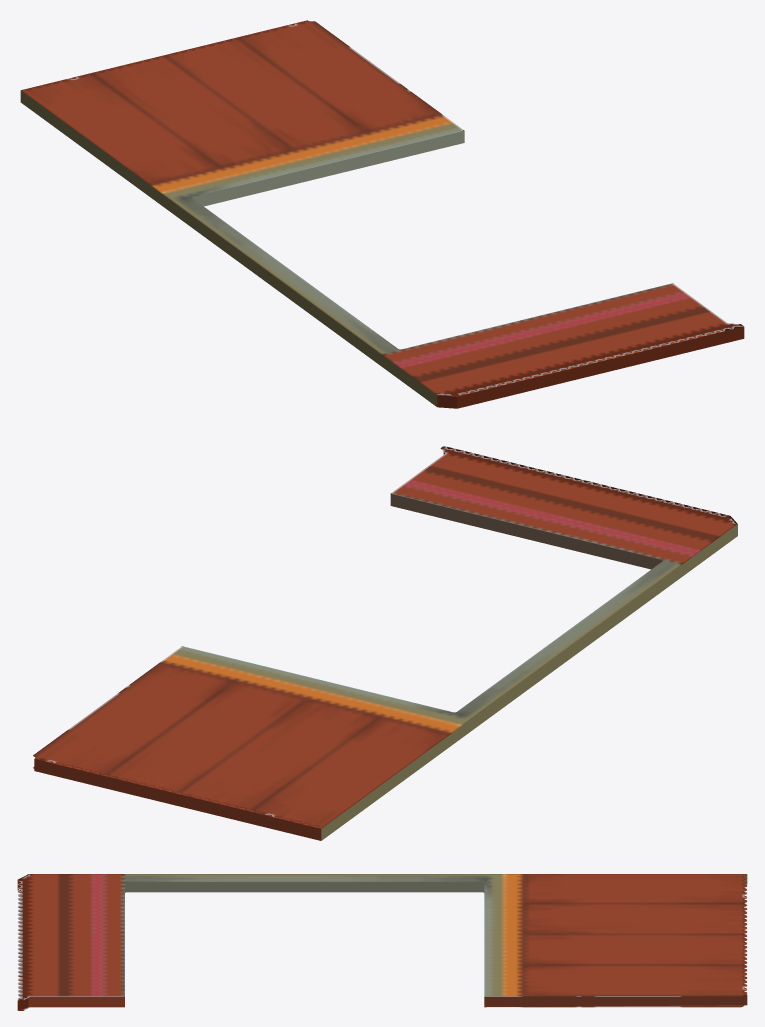
File: pz_native_location_restaurant_spiffos_01_16_frame.obj
3 views of the same model, one above another, from view 1: azimuth 30°, elevation 25°; view 2: azimuth 150°, elevation 25°; view 3: azimuth 270°, elevation 25° (orthographic). The views are drawn at different scales.
Visible parts, largest first — view 1: pz_native_location_restaurant_spiffos_01_16_frame; view 2: pz_native_location_restaurant_spiffos_01_16_frame; view 3: pz_native_location_restaurant_spiffos_01_16_frame.
Boxes of the visible parts, left/top/right/bottom form: pz_native_location_restaurant_spiffos_01_16_frame: left=20, top=20, right=744, bottom=408; pz_native_location_restaurant_spiffos_01_16_frame: left=33, top=446, right=737, bottom=840; pz_native_location_restaurant_spiffos_01_16_frame: left=17, top=874, right=747, bottom=1010.
Bounding box in the file's own units: 1.06 × 0.04 × 2.54.
Materials: 1 (1 with a texture image).
